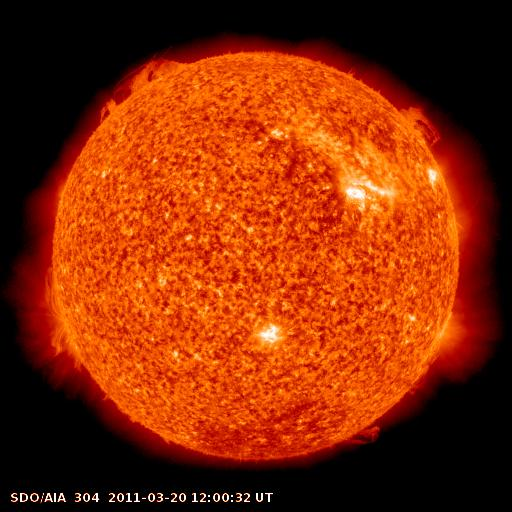prominence: (88, 50, 200, 127), (33, 259, 80, 362), (390, 92, 450, 158), (323, 406, 400, 456)
